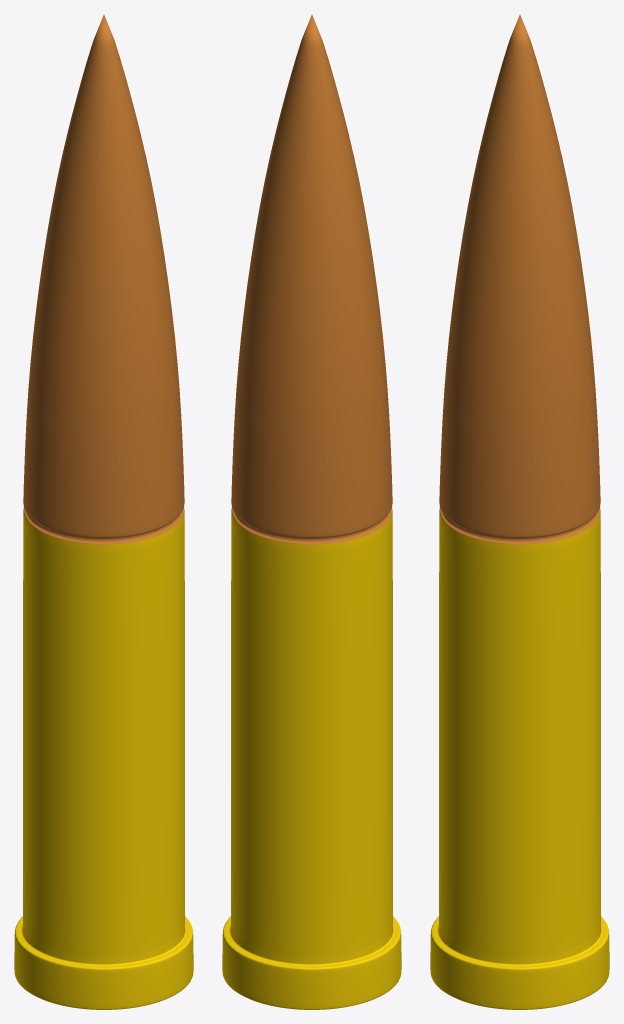
File: Bullet_02.fbx
3 views of the same model, side by side, from view 1: azimuth 30°, elevation 25°; view 2: azimuth 150°, elevation 25°; view 3: azimuth 270°, elevation 25° (orthographic).
Parts seen in each view (by area): view 1: Cylinder; view 2: Cylinder; view 3: Cylinder.
Boxes of the visible parts, left/top/right/bottom form: Cylinder: left=14, top=14, right=193, bottom=1009; Cylinder: left=222, top=14, right=401, bottom=1009; Cylinder: left=430, top=14, right=609, bottom=1009.
Size of the model in its own units: 176 by 1040 by 176.
